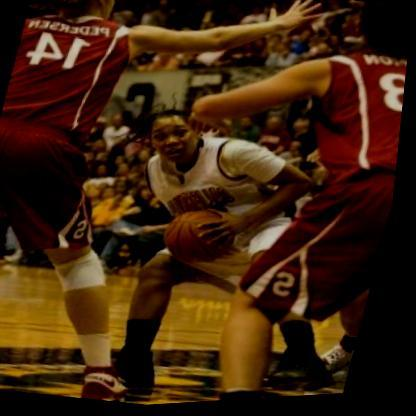basketball: (161, 201, 247, 274)
